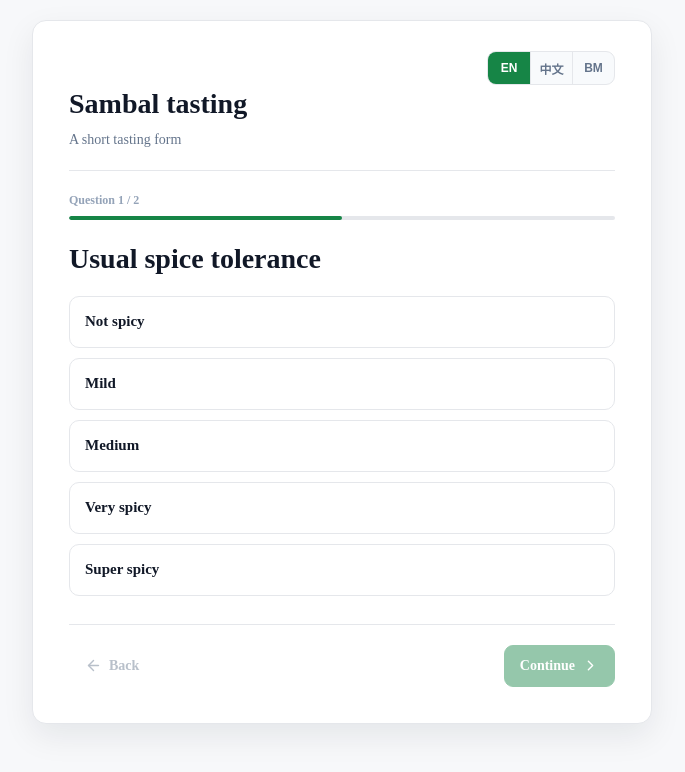
Test: Factory Product Feedback public contract › shows campaign context with Question 1 and preserves answers and language
Check: the heading "Usual spice tolerance" is shown, box [69, 243, 321, 274]
Check: the heading "Sambal tasting" is shown, box [69, 88, 247, 119]
Click the button "Mild" at coordinates (100, 383), box [69, 358, 615, 410]
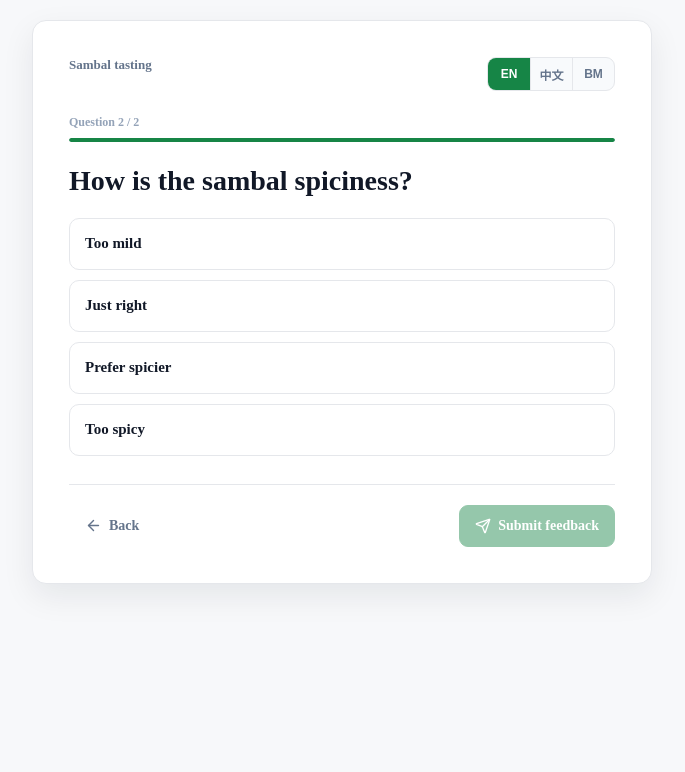
Check: the heading "How is the sambal spiciness?" is shown, box [69, 165, 413, 196]
Click the button "Back" at coordinates (112, 526), box [69, 505, 155, 547]
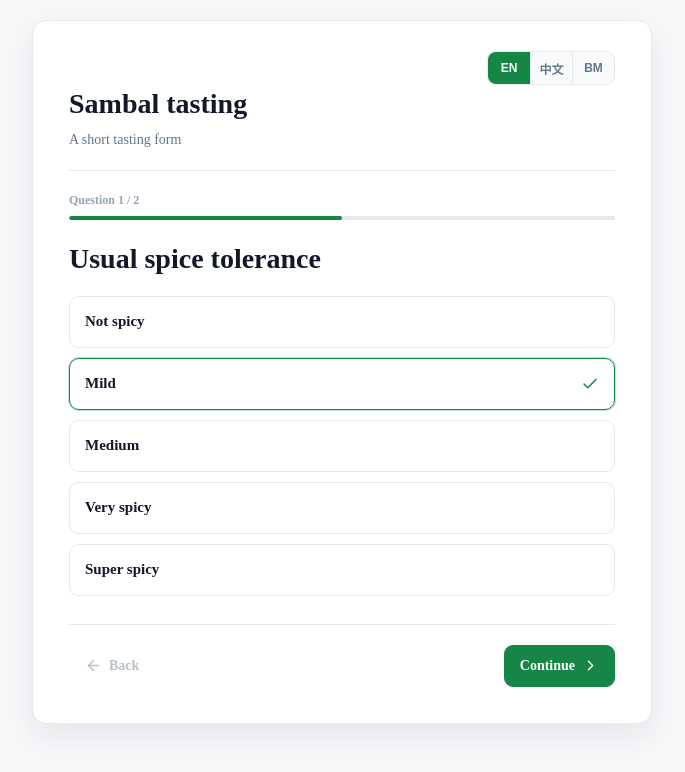
Check: the text "Mild" is shown, box [85, 375, 116, 392]
Click the button "中文" at coordinates (551, 68), box [530, 52, 572, 84]
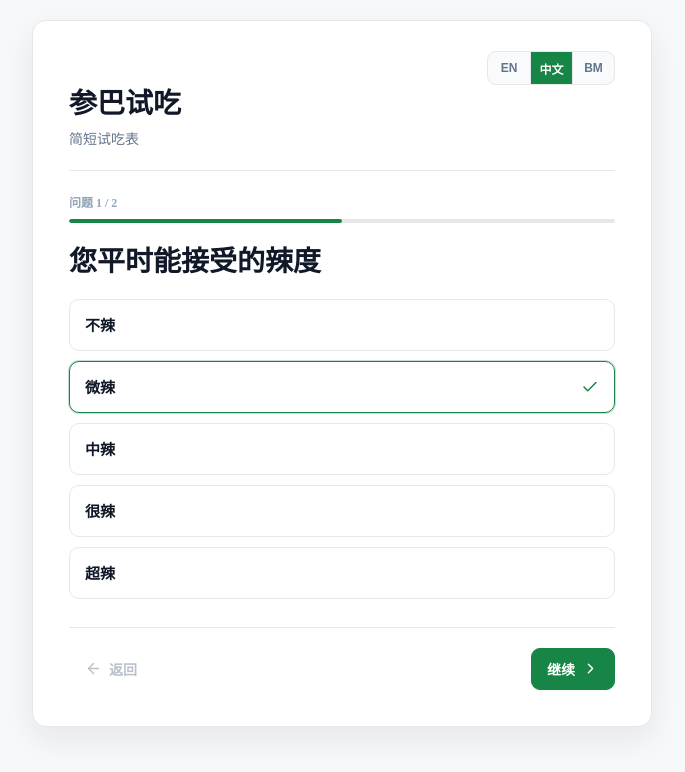
Check: the heading "您平时能接受的辣度" is shown, box [69, 246, 321, 277]
